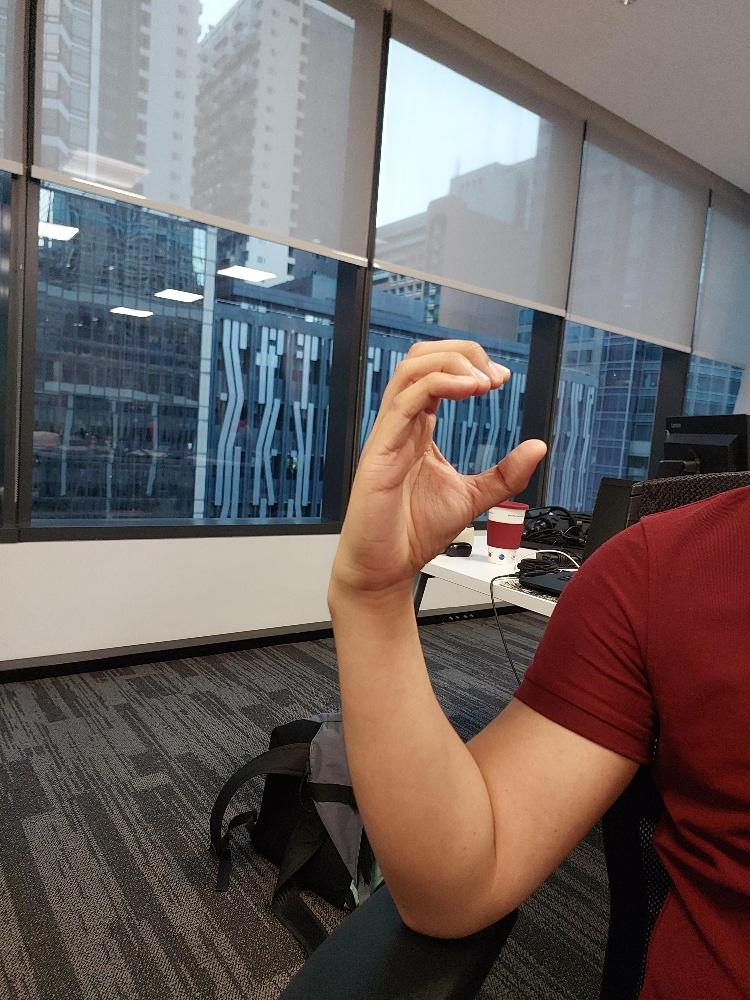c: (331, 334, 549, 593)
